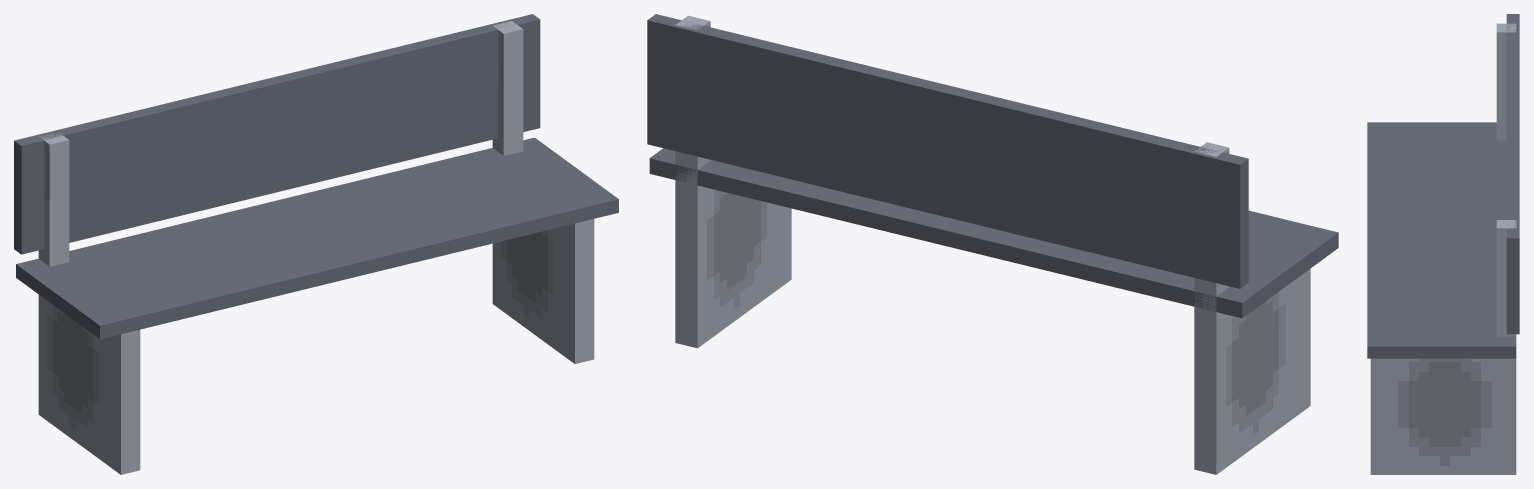
The model's file is modern_bench_2.glb.
The picture shows the model from 3 angles, left to right: view 1: azimuth 30°, elevation 25°; view 2: azimuth 150°, elevation 25°; view 3: azimuth 270°, elevation 25°; orthographic projection. The views are drawn at different scales.
Parts seen in each view (by area): view 1: modern_bench_3; view 2: modern_bench_3; view 3: modern_bench_3.
Part boxes in pixels (x1,y1,x2,y2): modern_bench_3: (14,14,618,474); modern_bench_3: (647,14,1338,474); modern_bench_3: (1367,14,1519,474).
Size of the model in its own units: 1.6 by 0.82 by 0.46.
Materials: 2 (2 with a texture image).
